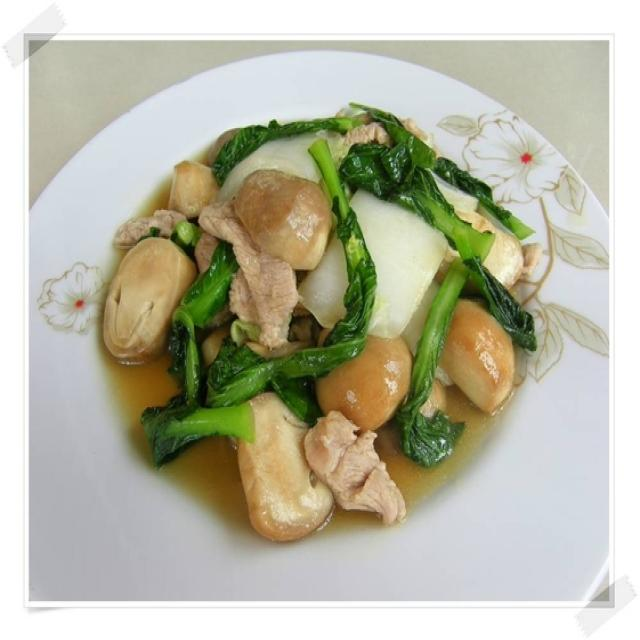蔬菜料理: (89, 92, 559, 565)
